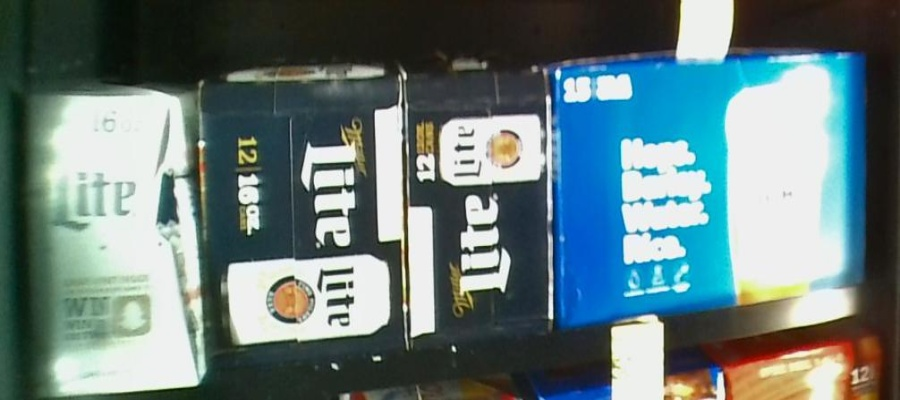bottle: (554, 58, 870, 318), (195, 66, 408, 370), (25, 78, 204, 391), (403, 57, 553, 338)
